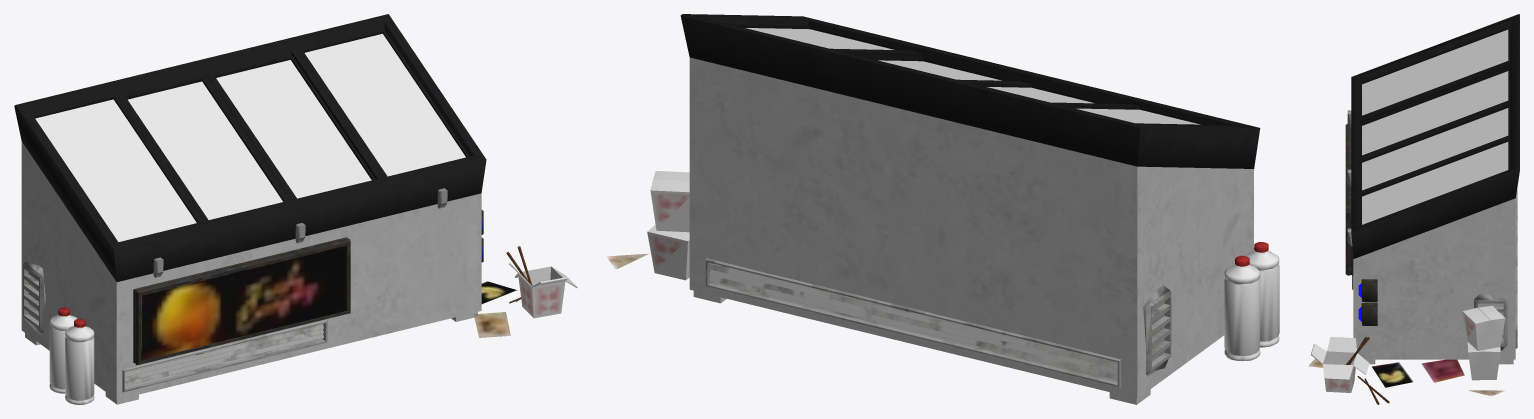
File: KB3D_NEC_BldgSM_B_FridgeA.glb
The picture shows the model from 3 angles, left to right: view 1: azimuth 30°, elevation 25°; view 2: azimuth 150°, elevation 25°; view 3: azimuth 270°, elevation 25°; orthographic projection. The views are drawn at different scales.
Visible parts, largest first — view 1: KB3D_NEC_BldgSM_B_FridgeA; view 2: KB3D_NEC_BldgSM_B_FridgeA; view 3: KB3D_NEC_BldgSM_B_FridgeA.
Boxes of the visible parts, bbox=[...] form: KB3D_NEC_BldgSM_B_FridgeA: bbox=[14, 14, 577, 404]; KB3D_NEC_BldgSM_B_FridgeA: bbox=[607, 14, 1279, 404]; KB3D_NEC_BldgSM_B_FridgeA: bbox=[1308, 14, 1519, 404].
Size of the model in its own units: 2.38 by 1.07 by 1.03.
11 materials, 9 textured.
